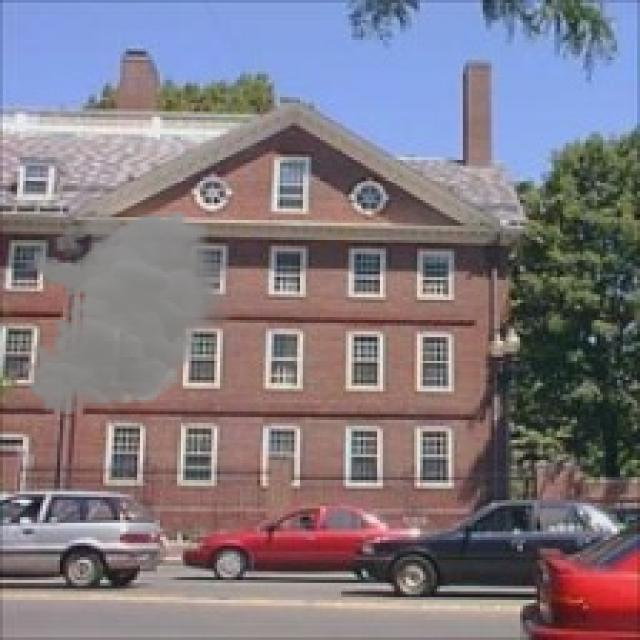smoke: (20, 209, 240, 414)
